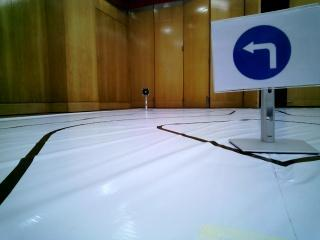left: (215, 20, 315, 91)
